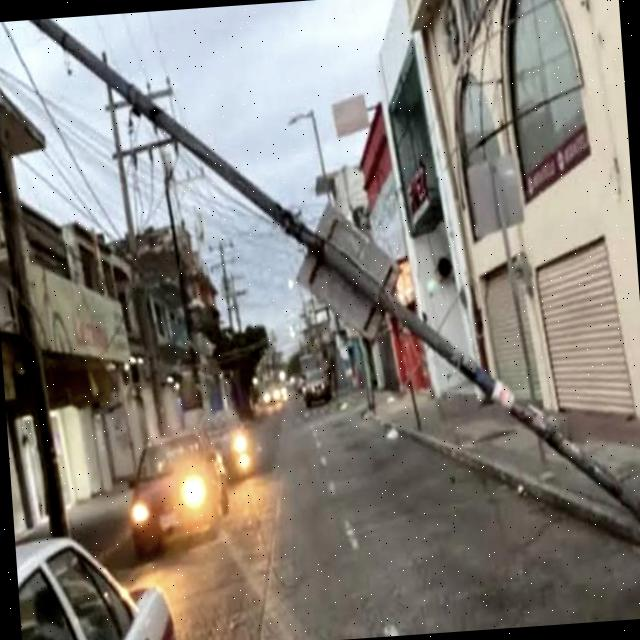Broken Pole: (23, 19, 640, 525)
